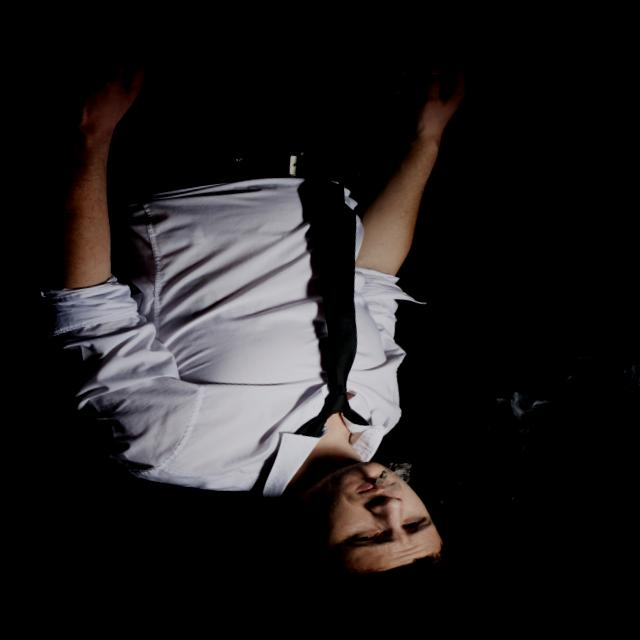cigarette: (361, 465, 418, 496)
